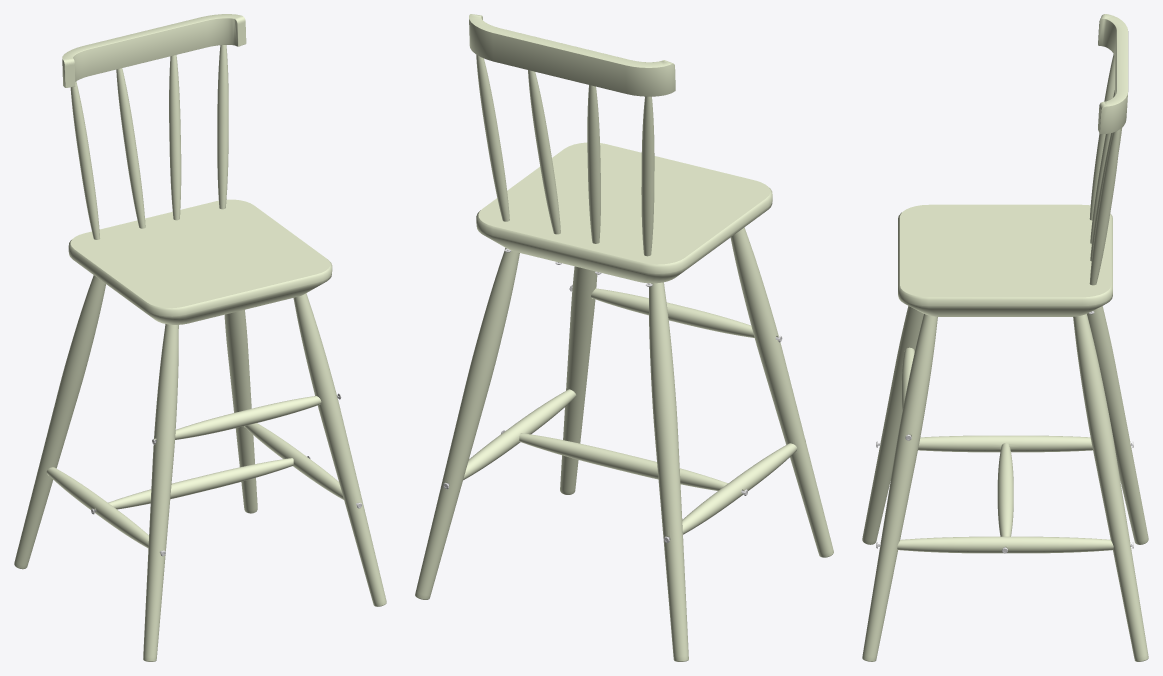
File: agrachair with holes.fbx
The picture shows the model from 3 angles, left to right: view 1: azimuth 30°, elevation 25°; view 2: azimuth 150°, elevation 25°; view 3: azimuth 270°, elevation 25°; orthographic projection. The views are drawn at different scales.
Parts seen in each view (by area): view 1: Chair seat, Chair Leg 4, Chair headrest, Chair Leg 3, Chair Leg 1, Chair Leg 2, Chair Link across 1, Chair Link across 2, Chair Leg link 1, Chair Top 4, Chair Top 3, Chair Top 2 (+2 smaller); view 2: Chair seat, Chair Leg 1, Chair Leg 2, Chair headrest, Chair Leg 4, Chair Leg 3, Chair Link across 1, Chair Link across 2, Chair Leg link 1, Chair Leg Link 2, Chair Top 4, Chair Top 3 (+2 smaller); view 3: Chair seat, Chair Leg 2, Chair Leg 3, Chair Leg 1, Chair Leg 4, Chair Leg Link 2, Chair Leg link 1, Chair headrest, Chair Top 4, Chair Link across 1, Chair Top 1, Chair Top 2 (+1 smaller).
Part boxes in pixels (x1=…): Chair seat: x1=68, y1=199, x2=332, y2=324; Chair Leg 4: x1=143, y1=324, x2=178, y2=661; Chair headrest: x1=62, y1=14, x2=246, y2=87; Chair Leg 3: x1=293, y1=293, x2=386, y2=606; Chair Leg 1: x1=14, y1=275, x2=105, y2=569; Chair Leg 2: x1=224, y1=310, x2=257, y2=513; Chair Link across 1: x1=108, y1=458, x2=293, y2=509; Chair Link across 2: x1=156, y1=396, x2=321, y2=439; Chair Leg link 1: x1=46, y1=467, x2=162, y2=552; Chair Top 4: x1=217, y1=45, x2=228, y2=209; Chair Top 3: x1=169, y1=55, x2=181, y2=220; Chair Top 2: x1=116, y1=68, x2=145, y2=228; Chair seat: x1=476, y1=142, x2=772, y2=283; Chair Leg 1: x1=649, y1=282, x2=688, y2=661; Chair Leg 2: x1=415, y1=248, x2=519, y2=599; Chair headrest: x1=469, y1=14, x2=675, y2=96; Chair Leg 4: x1=730, y1=227, x2=833, y2=557; Chair Leg 3: x1=560, y1=266, x2=597, y2=494; Chair Link across 1: x1=519, y1=433, x2=727, y2=490; Chair Link across 2: x1=591, y1=288, x2=754, y2=337; Chair Leg link 1: x1=667, y1=443, x2=797, y2=539; Chair Leg Link 2: x1=446, y1=389, x2=576, y2=485; Chair Top 4: x1=476, y1=54, x2=509, y2=221; Chair Top 3: x1=528, y1=70, x2=560, y2=234; Chair seat: x1=898, y1=204, x2=1112, y2=316; Chair Leg 2: x1=1073, y1=314, x2=1148, y2=661; Chair Leg 3: x1=862, y1=314, x2=937, y2=661; Chair Leg 1: x1=1087, y1=306, x2=1148, y2=544; Chair Leg 4: x1=862, y1=306, x2=923, y2=544; Chair Leg Link 2: x1=897, y1=536, x2=1113, y2=553; Chair Leg link 1: x1=918, y1=435, x2=1092, y2=452; Chair headrest: x1=1098, y1=14, x2=1128, y2=134; Chair Top 4: x1=1089, y1=129, x2=1120, y2=285; Chair Link across 1: x1=997, y1=443, x2=1013, y2=548; Chair Top 1: x1=1089, y1=54, x2=1114, y2=220; Chair Top 2: x1=1090, y1=90, x2=1114, y2=243.
Size of the model in its own units: 307 by 622 by 298.
